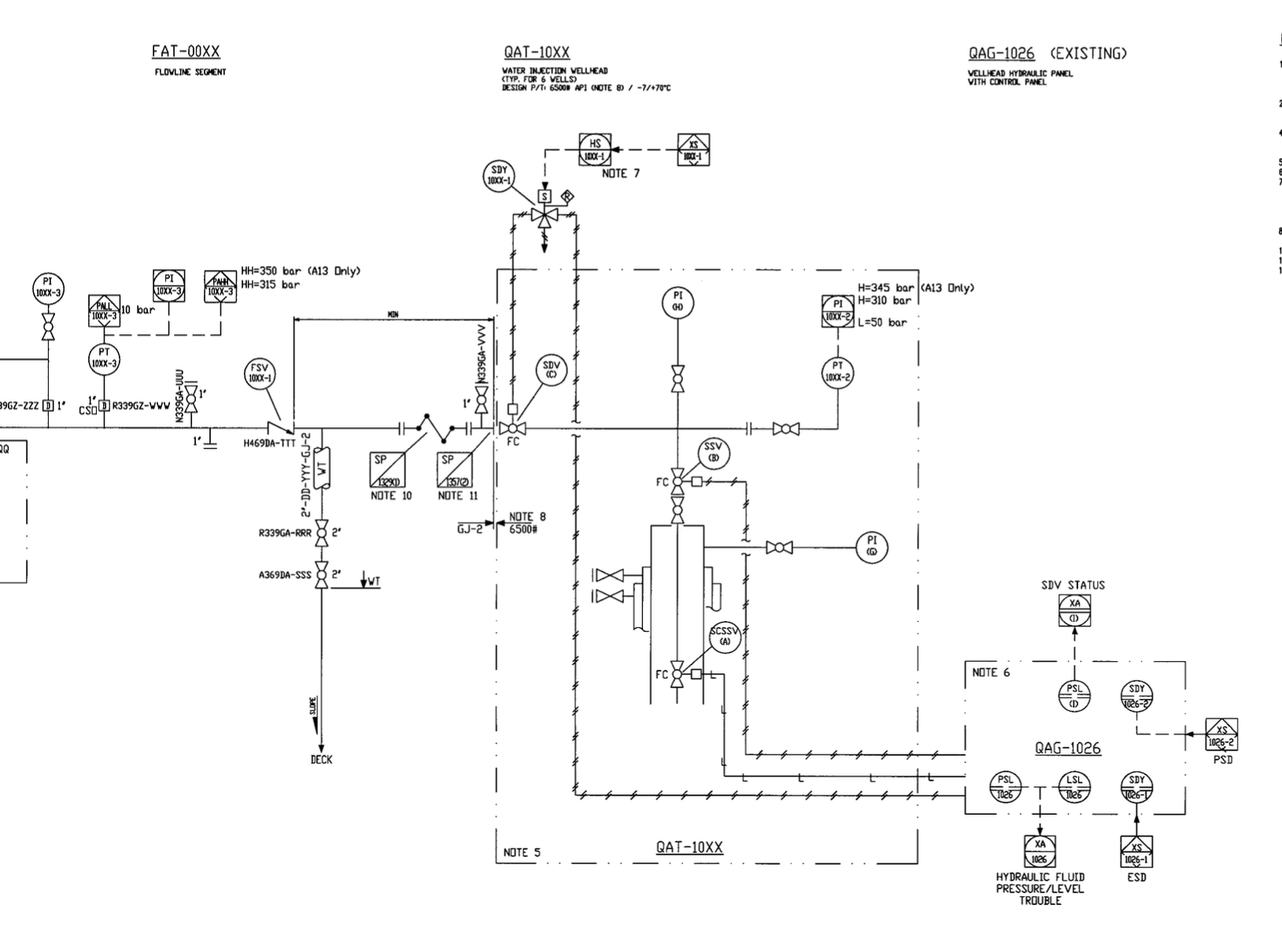Instrument: (1110, 673, 1158, 718), (982, 763, 1027, 807), (1055, 675, 1098, 714), (478, 155, 519, 195), (242, 352, 279, 396), (28, 268, 68, 307), (1055, 767, 1097, 804), (1119, 767, 1155, 810), (534, 346, 567, 392), (87, 338, 122, 379)
Instrument-square: (671, 127, 716, 171), (1109, 828, 1155, 870), (150, 261, 188, 308), (1020, 827, 1060, 870), (1052, 589, 1095, 629), (570, 129, 614, 168), (84, 288, 123, 331), (1199, 714, 1241, 753), (201, 264, 238, 308), (816, 291, 855, 331)
